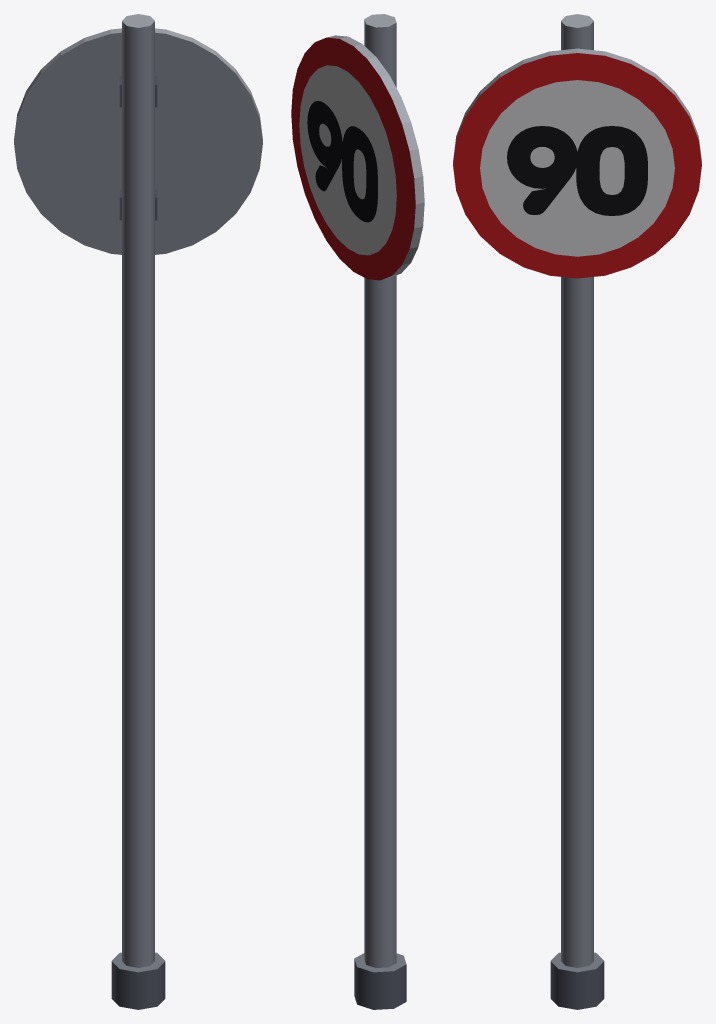
The model's file is sign_speed90.glb.
The picture shows the model from 3 angles, left to right: view 1: azimuth 90°, elevation 25°; view 2: azimuth 210°, elevation 25°; view 3: azimuth 270°, elevation 25°; orthographic projection.
Parts seen in each view (by area): view 1: Sign; view 2: Sign; view 3: Sign.
Boxes of the visible parts, bbox=[...] form: Sign: bbox=[14, 14, 262, 1009]; Sign: bbox=[291, 14, 424, 1009]; Sign: bbox=[453, 14, 701, 1009].
Bounding box in the file's own units: 0.17 × 2.6 × 0.6.
